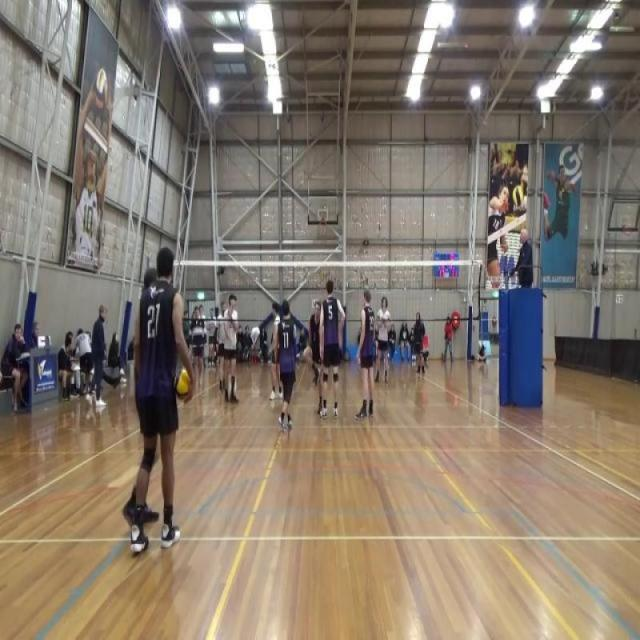volleyball: (174, 365, 194, 407), (94, 66, 108, 110), (512, 185, 524, 206)
